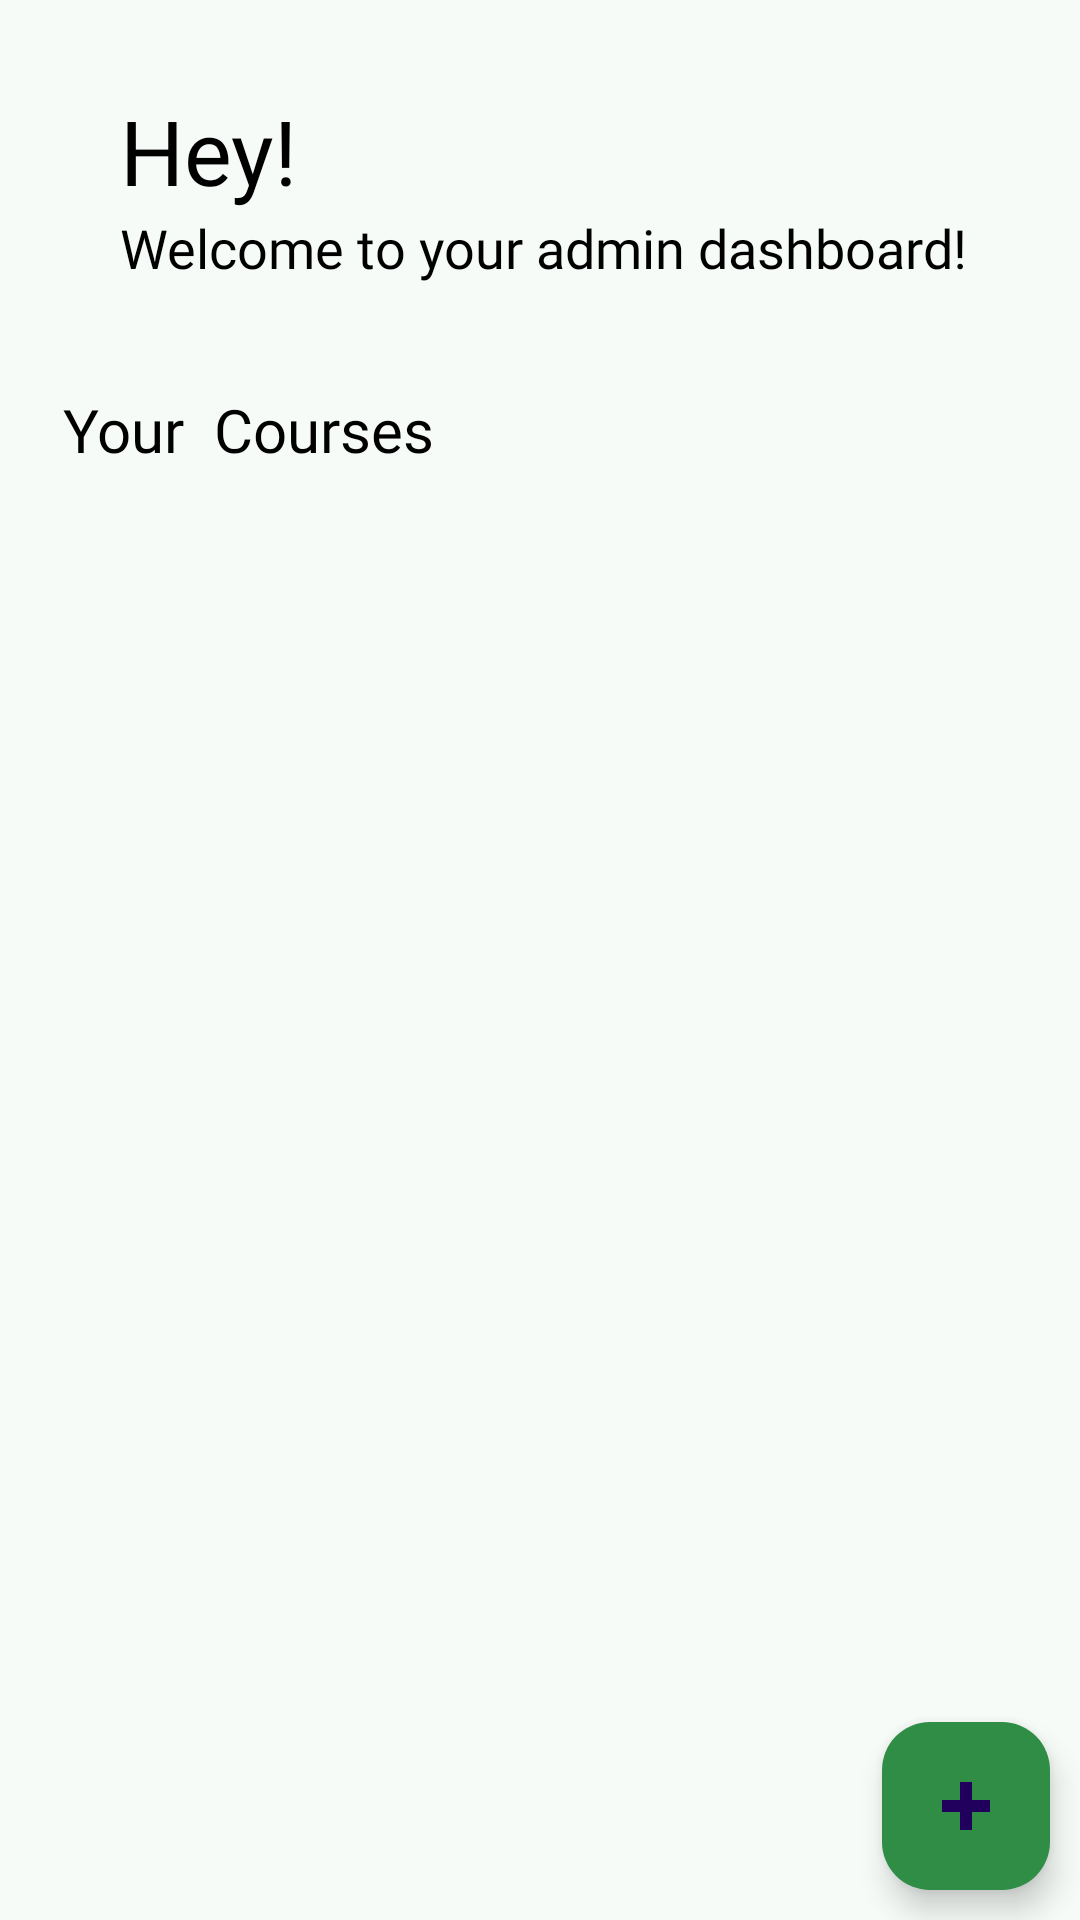

Locate icon controls on the screen. Image size 1080×1920, boxes as (x1,y1,x2,y2).
plus: (882,1722,1050,1890)
